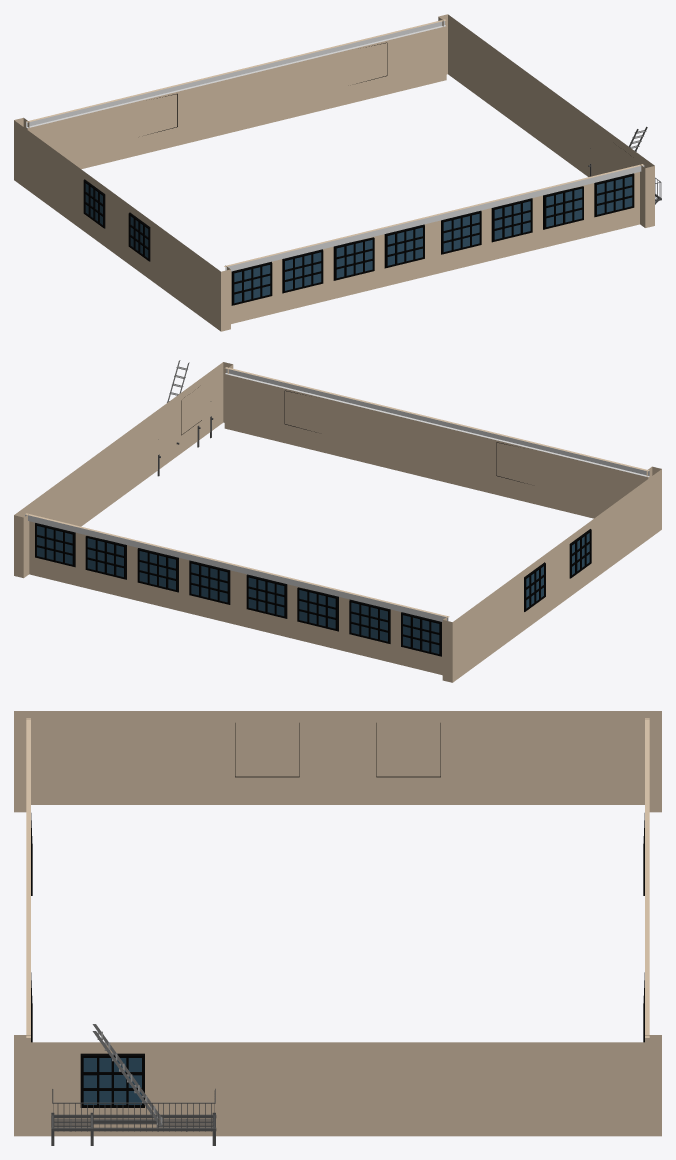
File: Apt6_Floor.fbx
3 renders of one model, top to bottom at view 1: azimuth 30°, elevation 25°; view 2: azimuth 150°, elevation 25°; view 3: azimuth 270°, elevation 25°, orthographic. The views are drawn at different scales.
Parts seen in each view (by area): view 1: Apt6_Floor_Main, Apt6_Floor_Frame, Apt6_Floor_Windows, Apt6_Floor_White; view 2: Apt6_Floor_Main, Apt6_Floor_Frame, Apt6_Floor_Windows, Apt6_Floor_White; view 3: Apt6_Floor_Main, Apt6_Floor_Rails, Apt6_Floor_Frame, Apt6_Floor_Windows, Apt6_Floor_Ladder.
Part boxes in pixels (x1,y1,x2,y2): Apt6_Floor_Main: (14, 14, 654, 331); Apt6_Floor_Frame: (83, 42, 634, 305); Apt6_Floor_Windows: (85, 176, 632, 303); Apt6_Floor_White: (26, 21, 644, 271); Apt6_Floor_Main: (14, 362, 661, 682); Apt6_Floor_Frame: (35, 387, 591, 656); Apt6_Floor_Windows: (37, 526, 589, 653); Apt6_Floor_White: (25, 368, 649, 621); Apt6_Floor_Main: (14, 711, 661, 1136); Apt6_Floor_Rails: (51, 1088, 216, 1145); Apt6_Floor_Frame: (31, 723, 644, 1107); Apt6_Floor_Windows: (83, 1058, 141, 1104); Apt6_Floor_Ladder: (92, 1024, 163, 1126).
Size of the model in its own units: 2597 by 447 by 2050.
